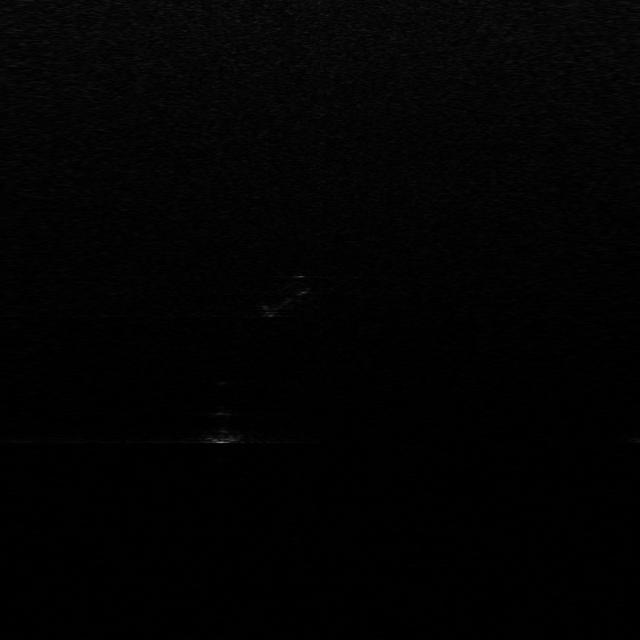ball: (202, 413, 246, 442)
tyre: (260, 274, 310, 318)
